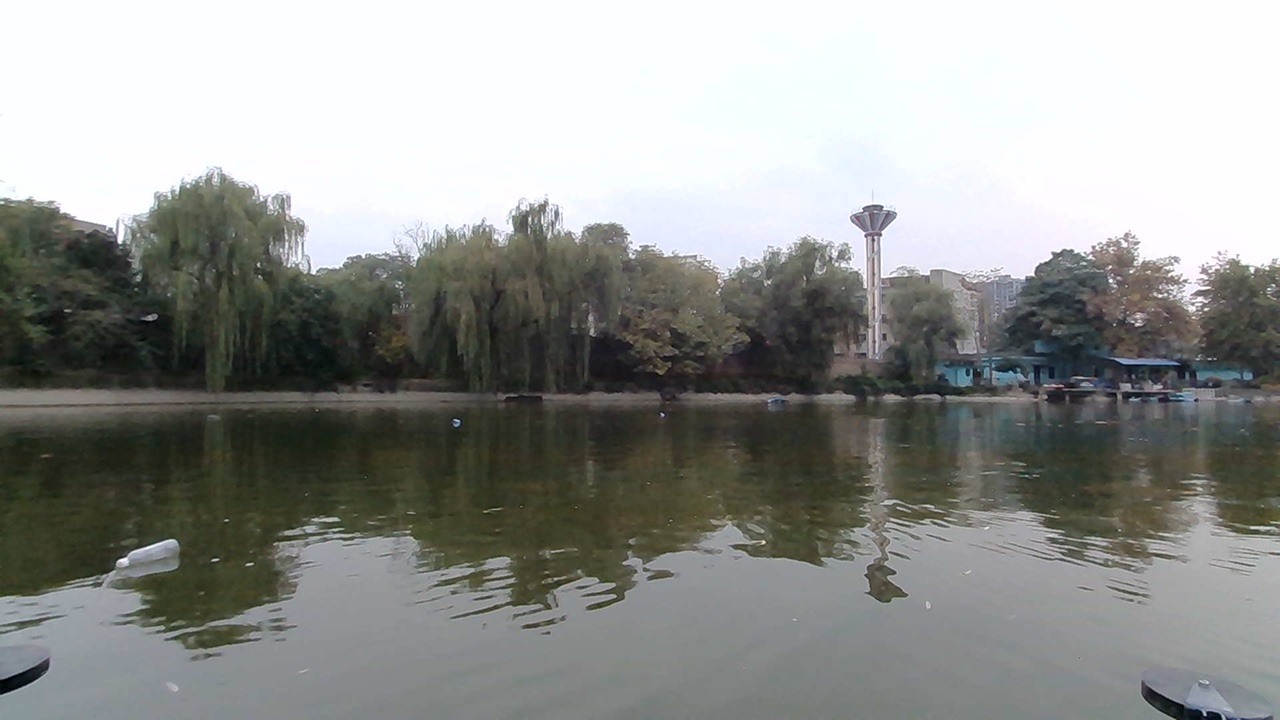bottle: (120, 546, 179, 575), (438, 410, 469, 428)
